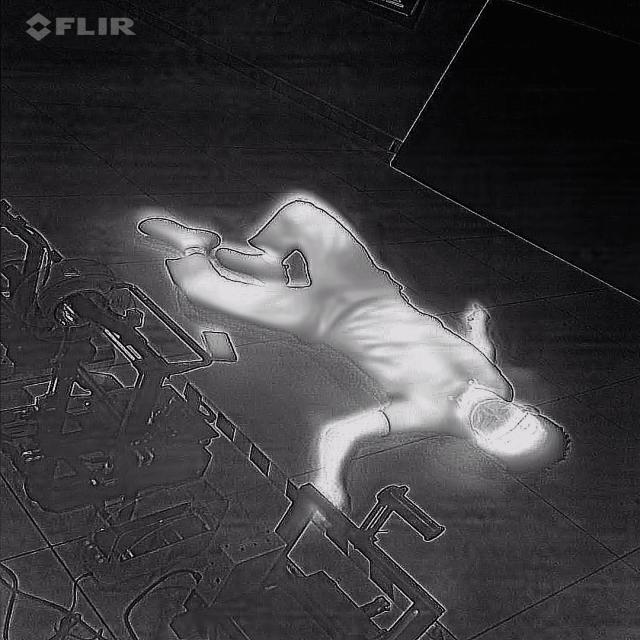Victim: (126, 182, 578, 532)
